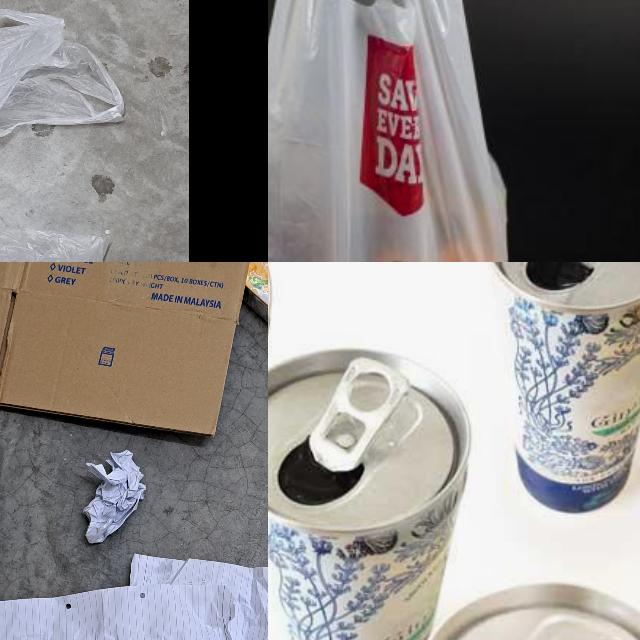aba de lata: (314, 347, 406, 485)
caixinha: (244, 262, 268, 362)
lata: (268, 345, 469, 640), (487, 262, 640, 517), (419, 575, 640, 640)
papel: (0, 555, 268, 640), (80, 449, 144, 547)
papelão: (0, 262, 247, 437)
sacola plástica: (268, 0, 516, 262), (0, 8, 125, 175)
